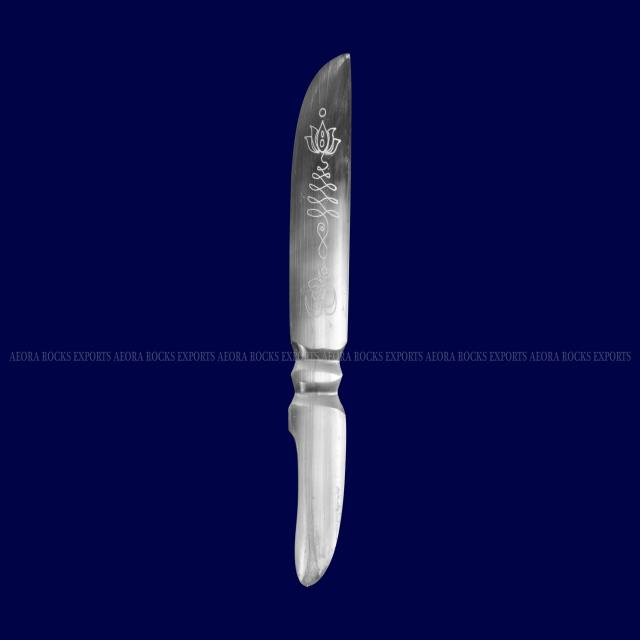Knife: (268, 36, 368, 593)
